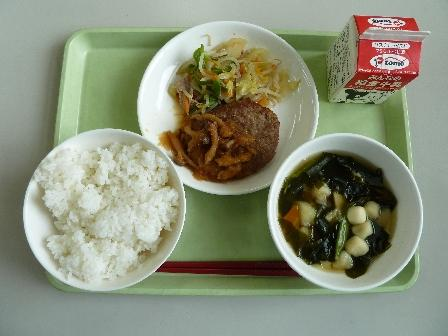Meat: (160, 101, 283, 170)
Milk: (321, 10, 428, 106)
Rice: (20, 130, 184, 286)
Soups: (269, 142, 413, 285)
salad with sauce: (161, 36, 289, 103)
